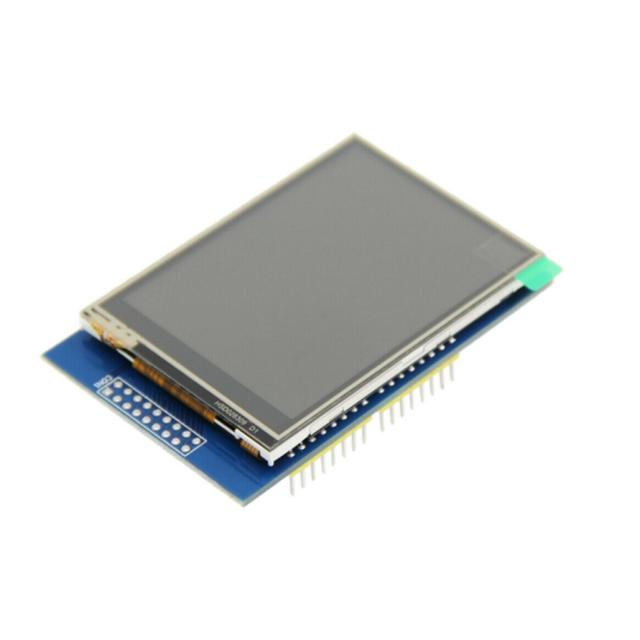Display: (32, 116, 588, 523)
